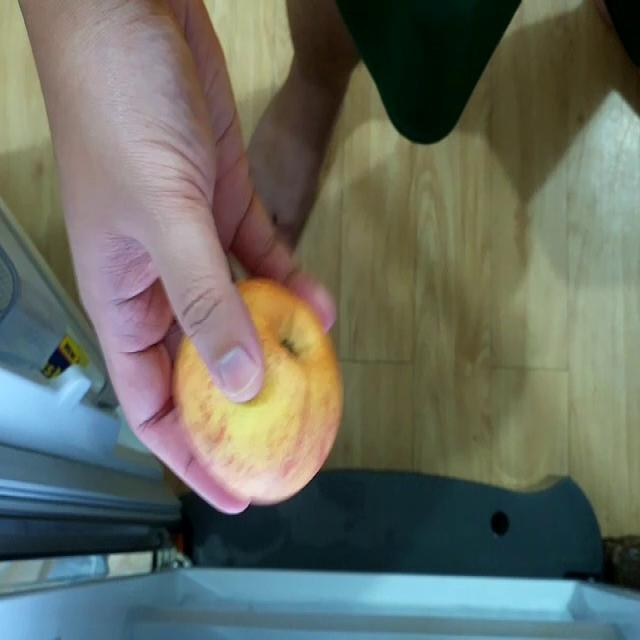apple: (169, 275, 345, 509)
